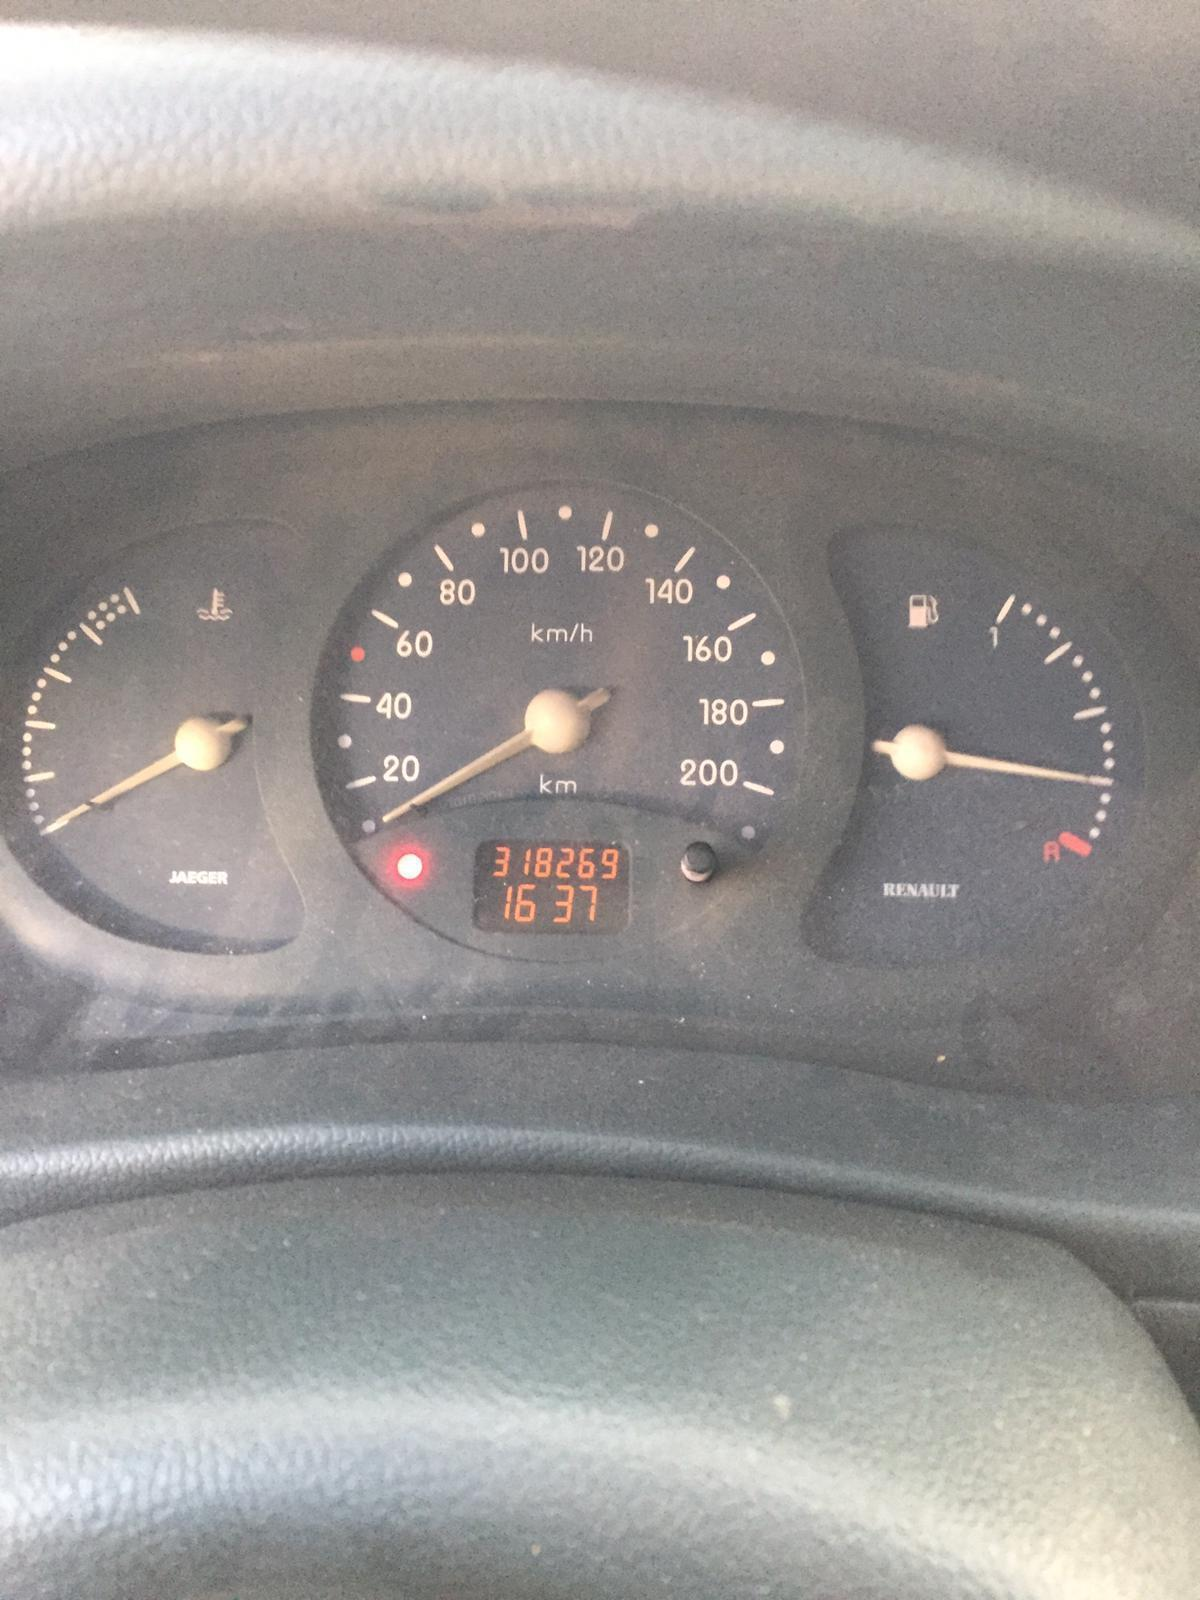1: (503, 884, 512, 918), (522, 847, 531, 876)
2: (555, 847, 574, 878)
3: (555, 884, 574, 923), (492, 847, 511, 877)
6: (514, 883, 536, 922), (577, 847, 595, 878)
7: (579, 884, 597, 922)
8: (534, 847, 553, 878)
9: (600, 848, 618, 879)
odometer: (469, 835, 633, 939)
